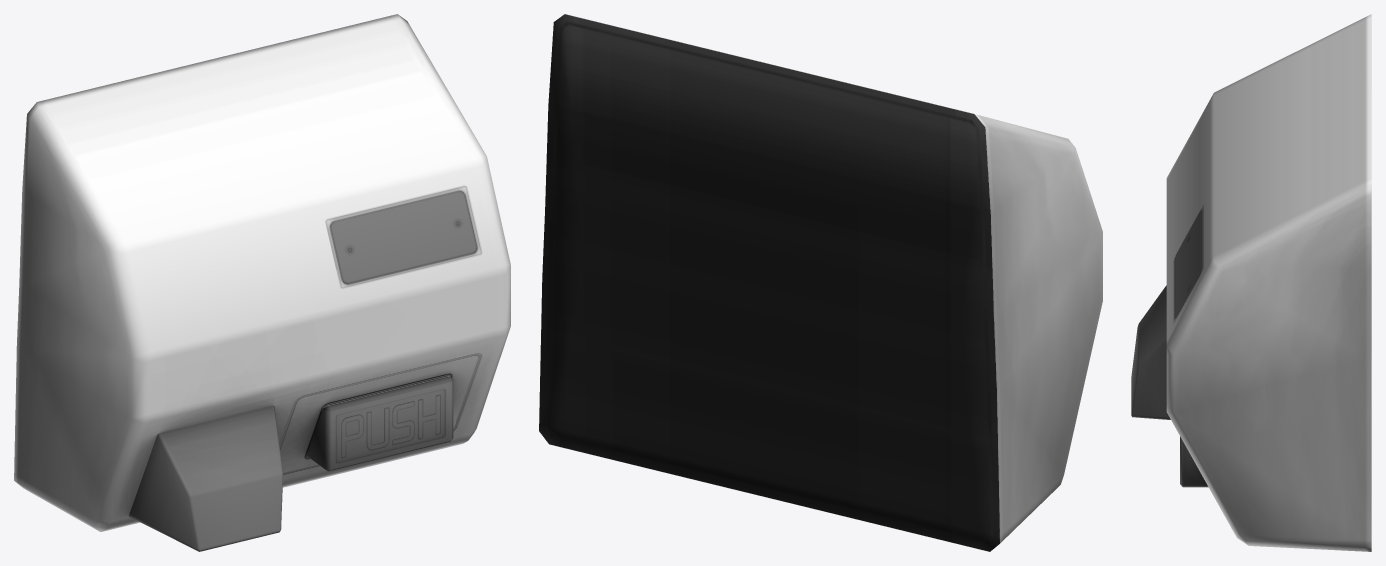
Rendered from HandDryer.fbx.
3 views of the same model, side by side, from view 1: azimuth 30°, elevation 25°; view 2: azimuth 150°, elevation 25°; view 3: azimuth 270°, elevation 25° (orthographic). The views are drawn at different scales.
Parts seen in each view (by area): view 1: Hand Dryer; view 2: Hand Dryer; view 3: Hand Dryer.
Boxes of the visible parts, box(x1,y1,x2,y2) form: Hand Dryer: box(14, 14, 510, 551); Hand Dryer: box(539, 14, 1102, 551); Hand Dryer: box(1131, 14, 1371, 551).
Bounding box in the file's own units: 61.33 × 55.19 × 33.05.
